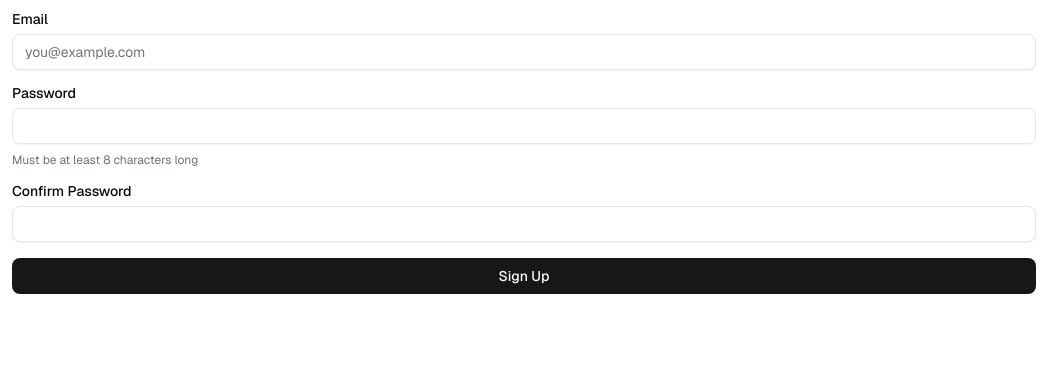
Test: displays server error message on sign up failure
This screenshot has width=1048, height=365.
Type "password123" into the password field labelled "Password" at [524, 126], box [12, 108, 1036, 144]
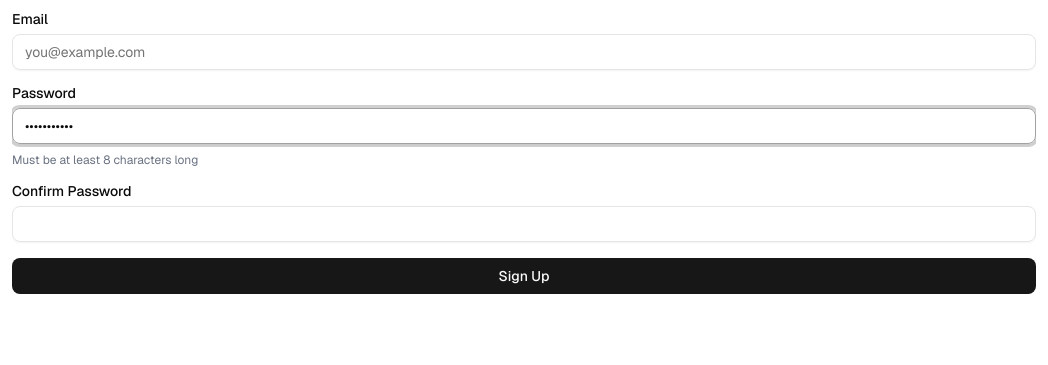
Type "password123" into the password field labelled "Confirm Password" at [524, 224], box [12, 206, 1036, 242]
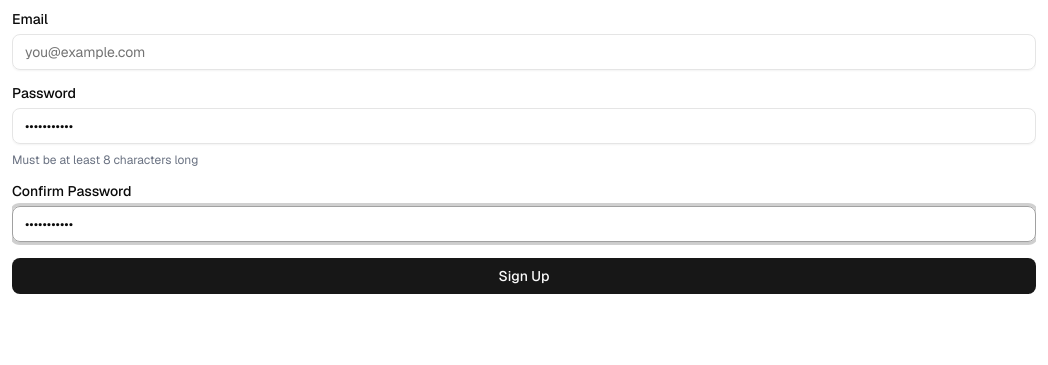
Submit the form "Sign Up"
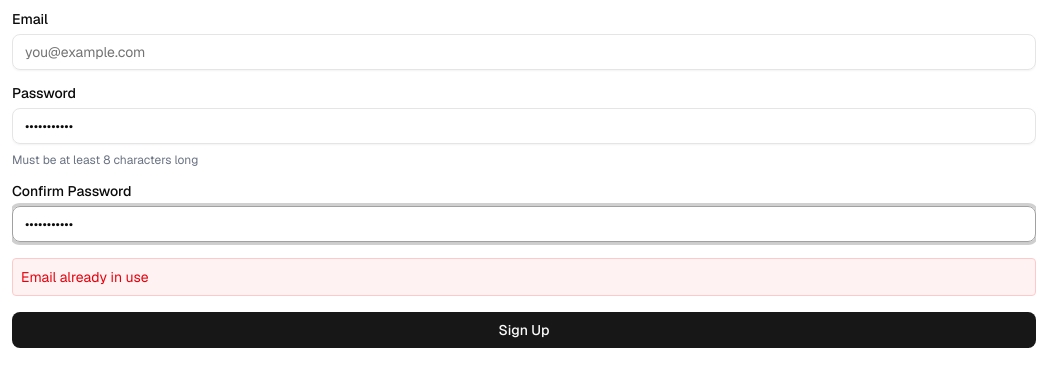
Now the text "Email already in use" is shown, box [12, 258, 1036, 296]
